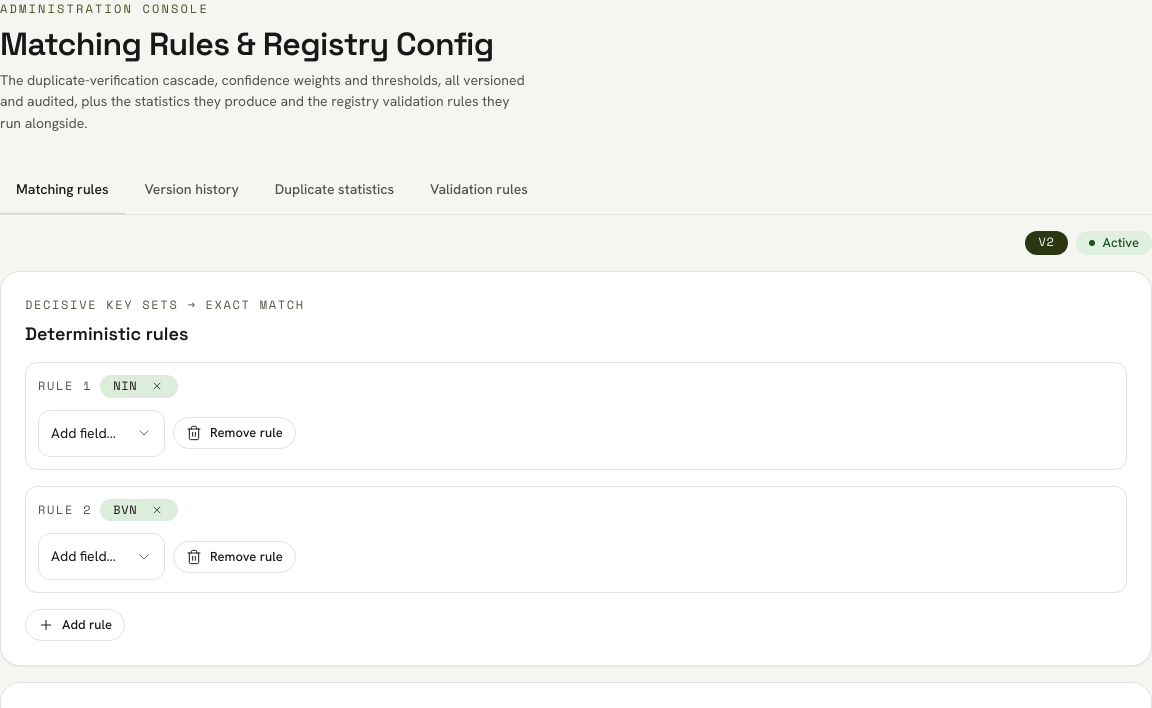
Test case: Admin console — Matching Rules & Registry Config (composes Phase 3) › shows the immutable version history from the existing endpoint
This screenshot has width=1152, height=708.
Expected: the text "v2" is shown, left=1025, top=230, right=1068, bottom=255
Click the tab "Version history": click(192, 191) left=128, top=167, right=255, bottom=214
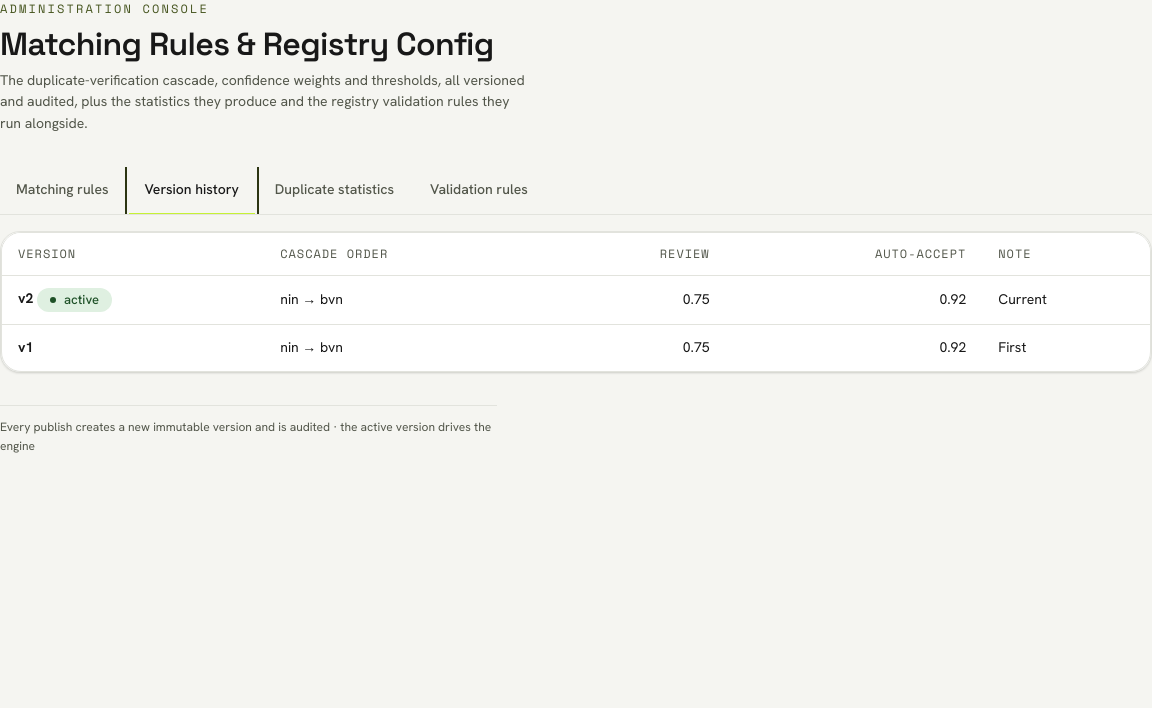
Expected: the text "nin → bvn" is shown 2 times, left=264, top=276, right=555, bottom=325; left=264, top=325, right=555, bottom=371
Expected: the text "active" is shown once, left=37, top=288, right=112, bottom=312
Expected: the text "v1" is shown, left=18, top=338, right=33, bottom=356
